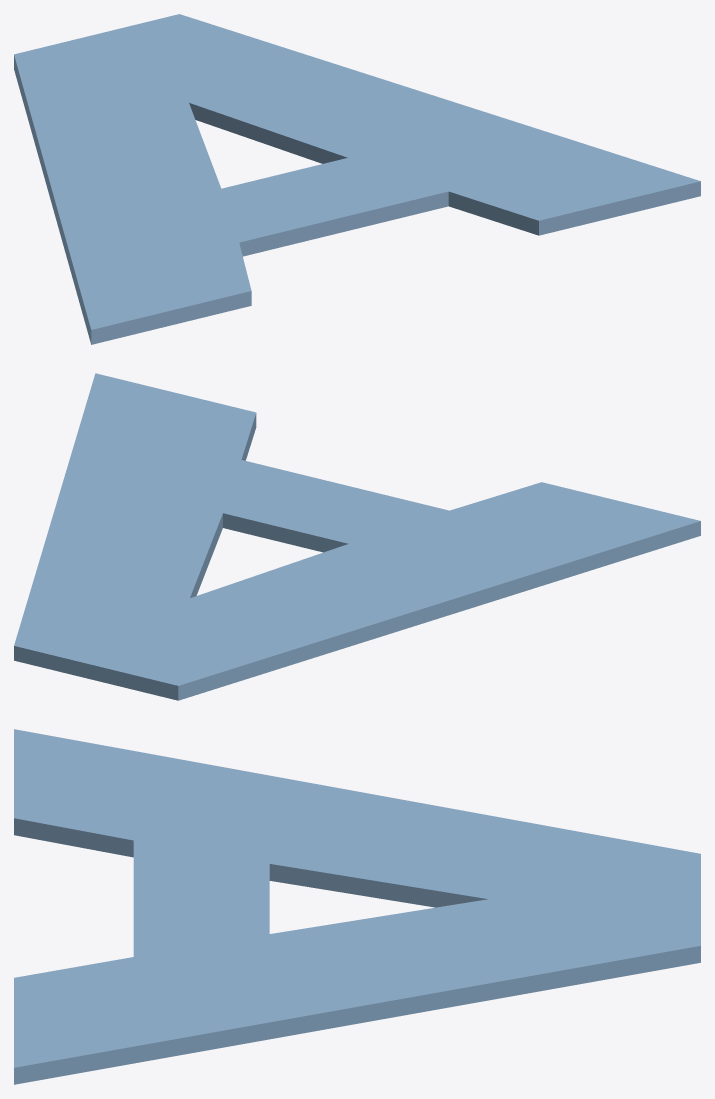
The model's file is original-101.obj.
3 renders of one model, top to bottom at view 1: azimuth 30°, elevation 25°; view 2: azimuth 150°, elevation 25°; view 3: azimuth 270°, elevation 25°, orthographic. The views are drawn at different scales.
Parts seen in each view (by area): view 1: mesh172/mesh172-geometry#mesh172-geometry; view 2: mesh172/mesh172-geometry#mesh172-geometry; view 3: mesh172/mesh172-geometry#mesh172-geometry.
Part boxes in pixels (box(x1,y1,x2,y2)): mesh172/mesh172-geometry#mesh172-geometry: box(14, 14, 700, 344); mesh172/mesh172-geometry#mesh172-geometry: box(14, 373, 700, 700); mesh172/mesh172-geometry#mesh172-geometry: box(14, 729, 700, 1084).
Size of the model in its own units: 0.0167 by 0.000391 by 0.0143.
